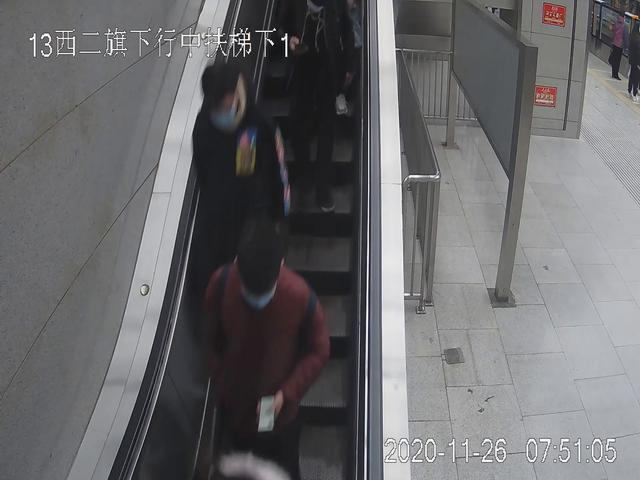person: (201, 235, 329, 480), (193, 65, 292, 359), (277, 1, 359, 214), (608, 9, 628, 80)
